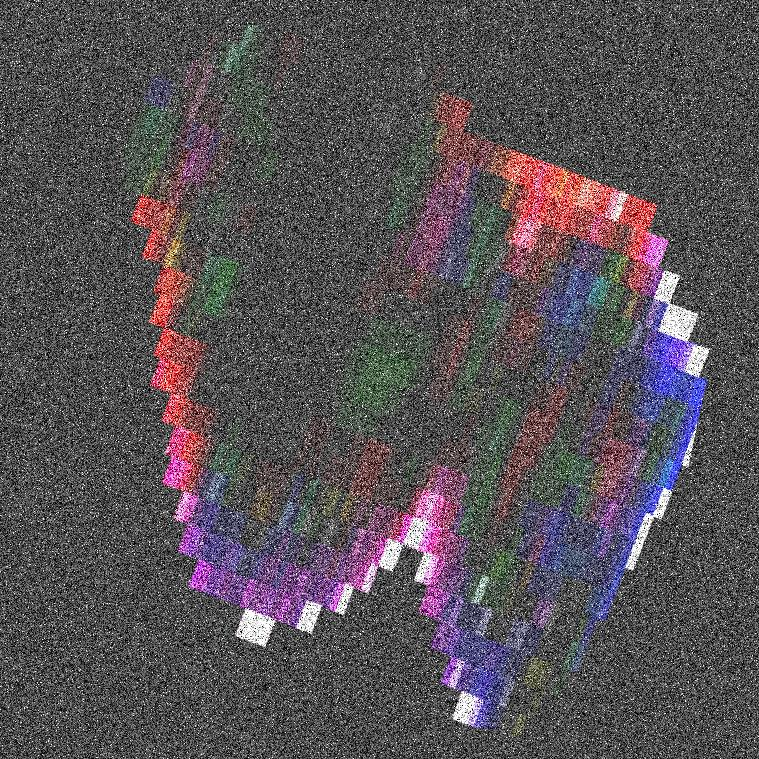Oculos: (230, 0, 749, 758)
